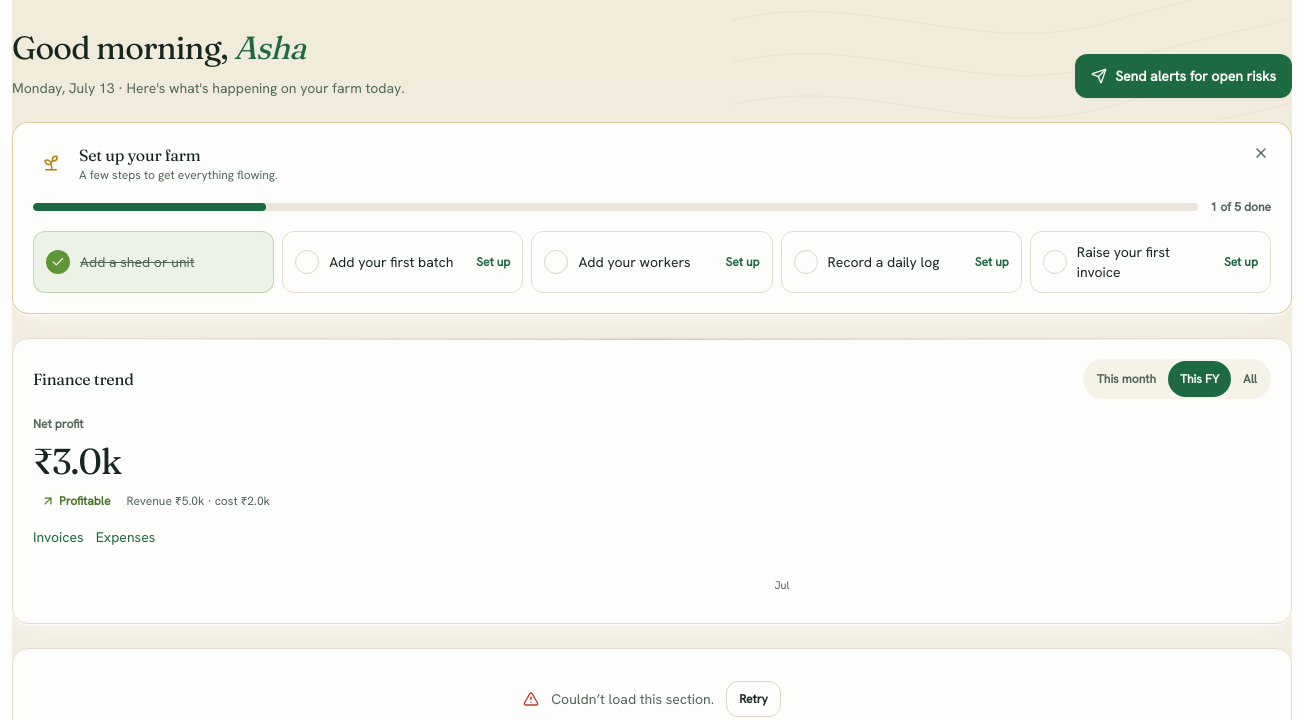
Test: Dashboard error handling + weather refresh › shows a real error state with Retry (never a fake empty), and retries
expect the text "Couldn’t load this section." is shown: met, box [551,689,714,709]
Step 1. Click the button "Retry" → [753, 699], box [726,681,781,717]
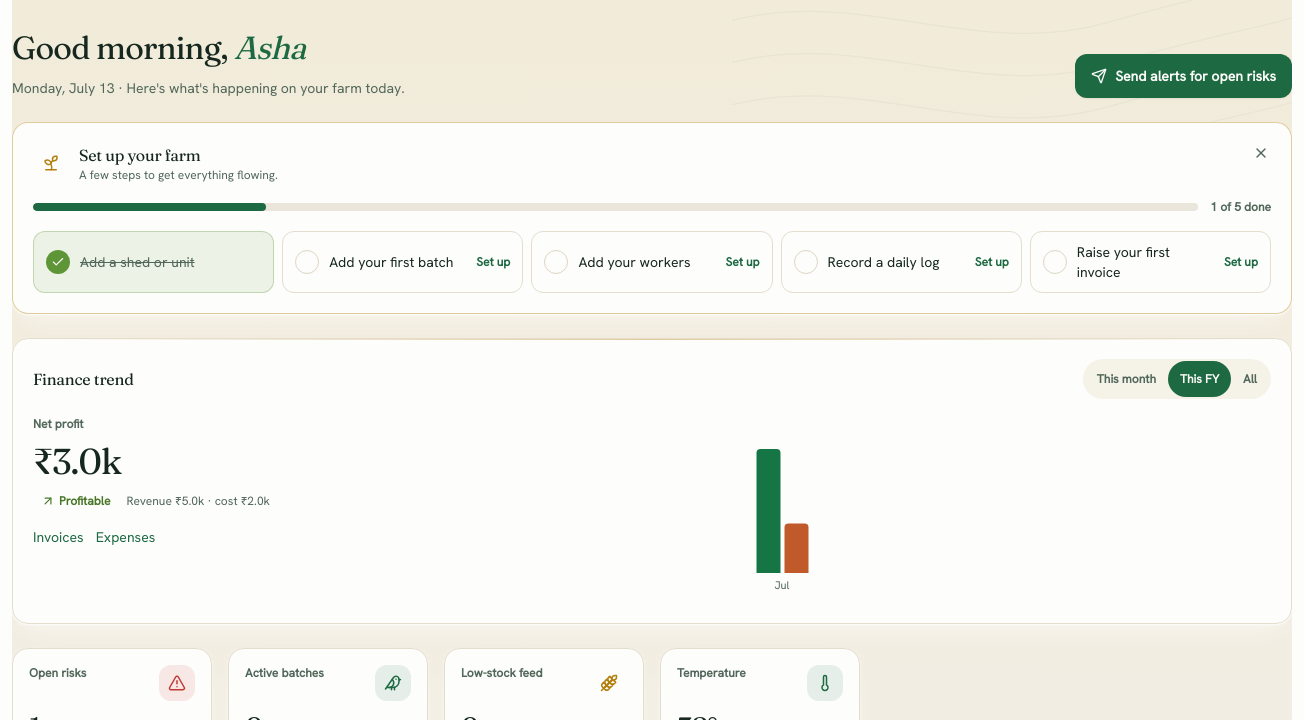
expect the text "Open risks" is shown: met, box [29,665,86,681]
